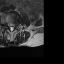CCS_normal: (10, 24, 12, 33)
LFS_stenosis: (14, 22, 16, 28)
LLS_normal: (12, 24, 14, 31)
RFS_severe_stenosis: (6, 22, 8, 28)
RLS_stenosis: (8, 24, 10, 30)
